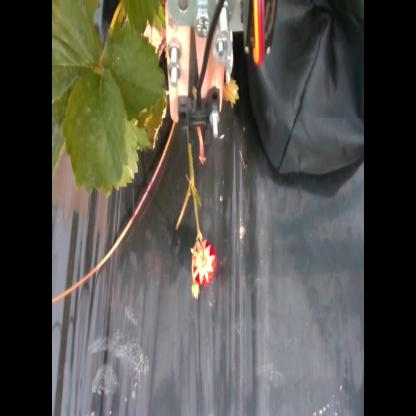ripe: (190, 230, 220, 291)
